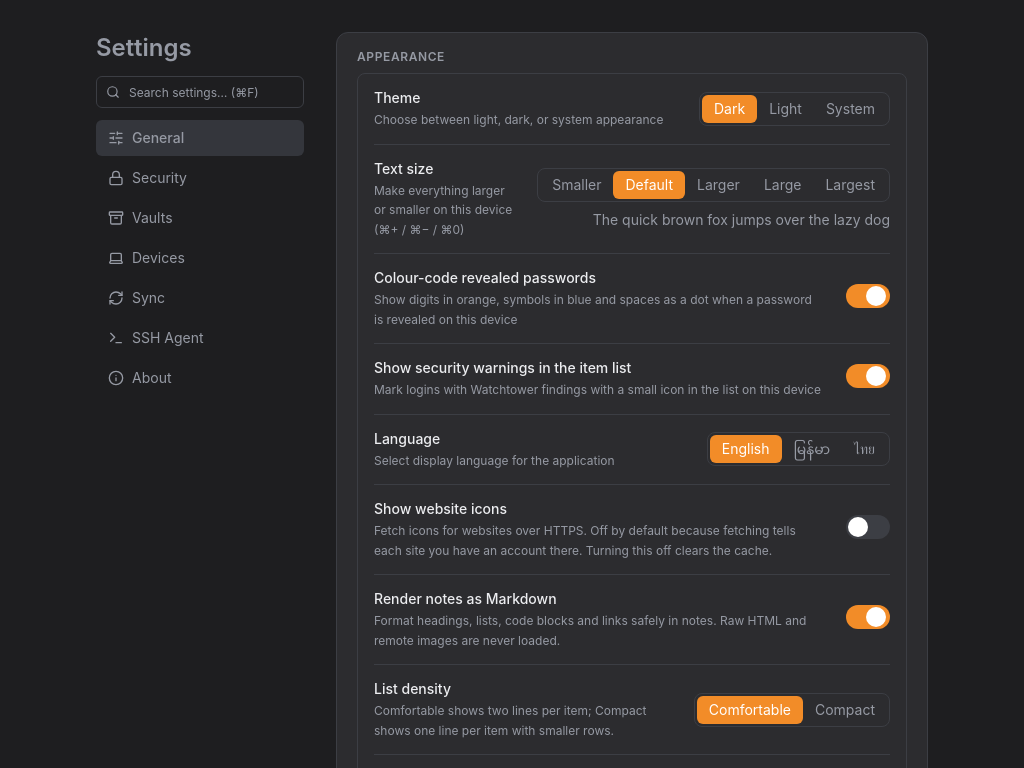
Scenario: Settings search and consistent layout › shows empty results state with localized message and Clear button when no settings match
Type "nonexistentquery123" into the search field with test id "settings-search-input".
click(200, 92); type("nonexistentquery123")  # box [96,76,304,108]
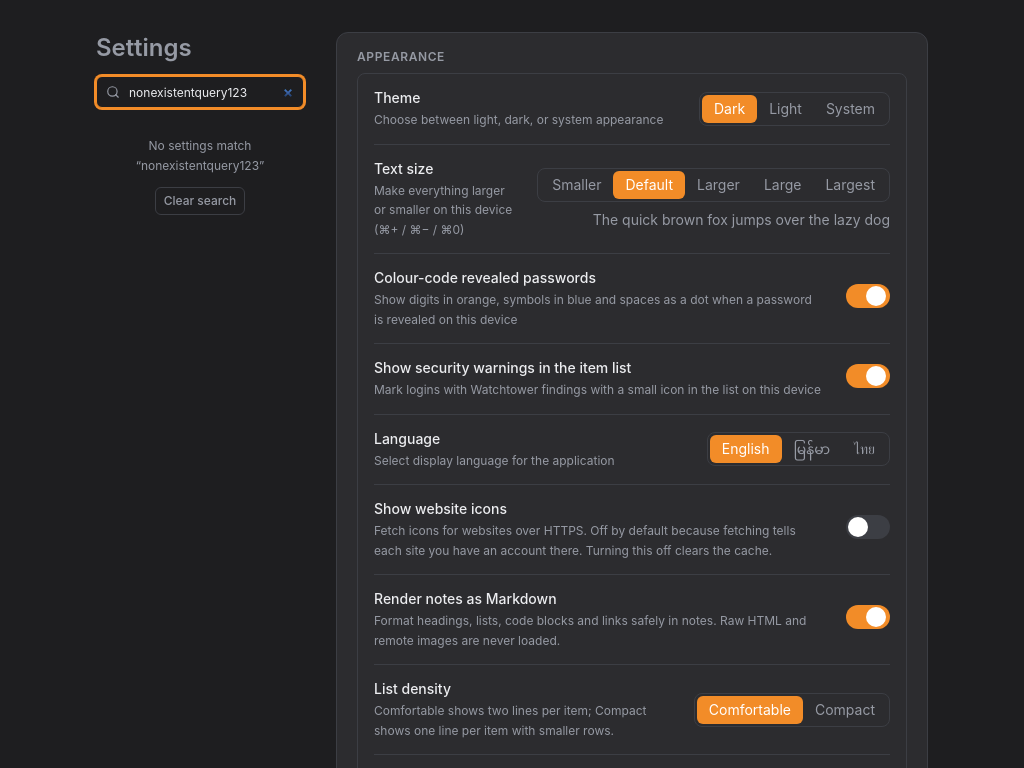
Check: the message "No settings match “nonexistentquery123” Clear search" is shown, box [136,138,264,215]
Check: the text "No settings match “nonexistentquery123”" is shown, box [136,138,264,172]
Click the button "Clear search".
click(200, 201)  # box [155,187,245,215]
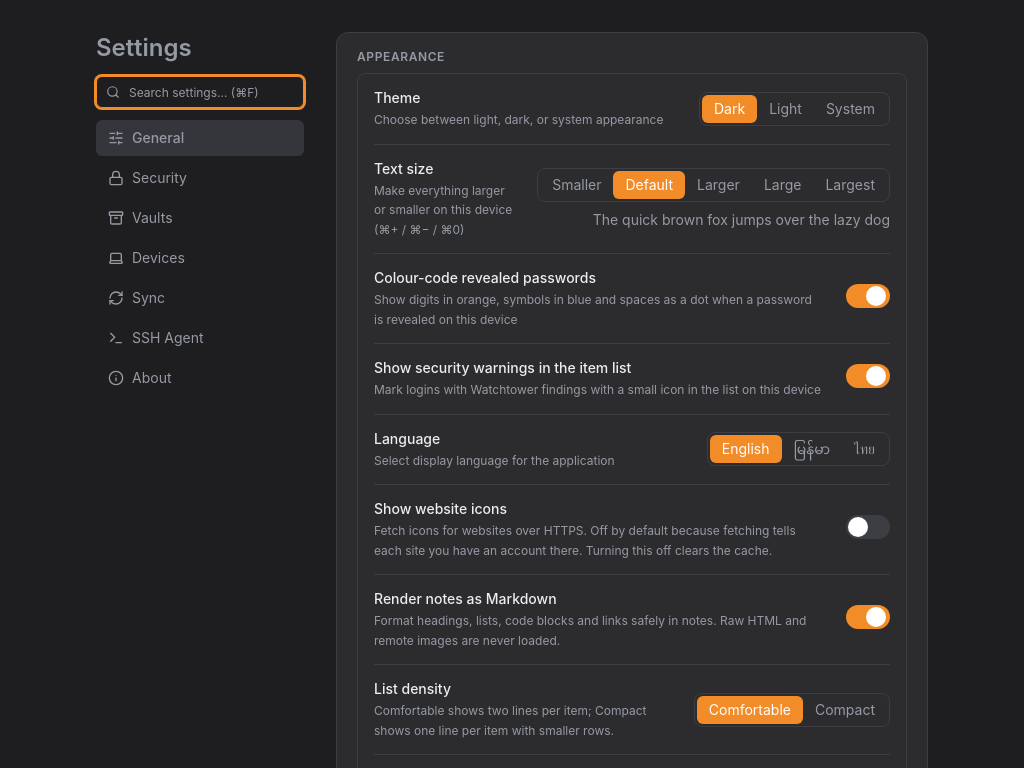
Check: the search field with test id "settings-search-input" is empty, box [96,76,304,108]
Check: the list is shown, box [96,120,304,396]
